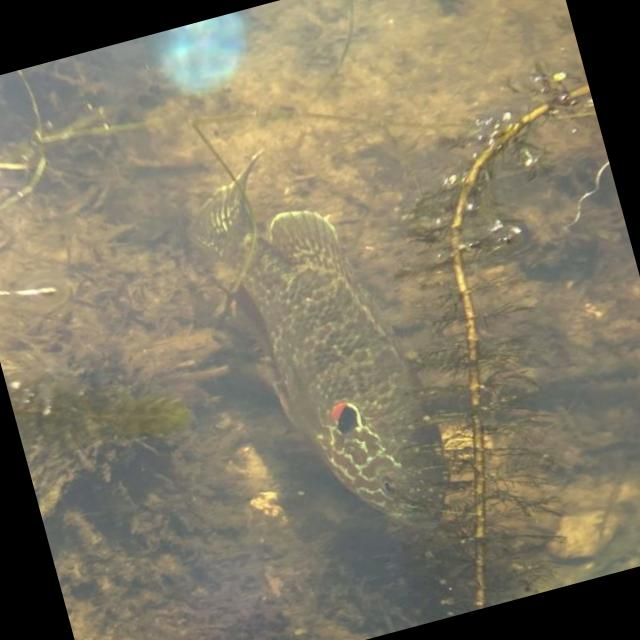Gunes Levregi: (162, 114, 476, 574)
